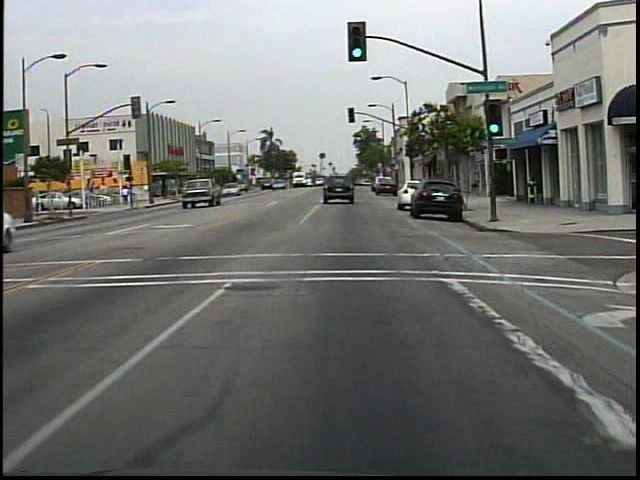person: (122, 183, 130, 207)
